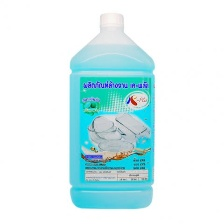cleaning_solution: (65, 8, 159, 211)
